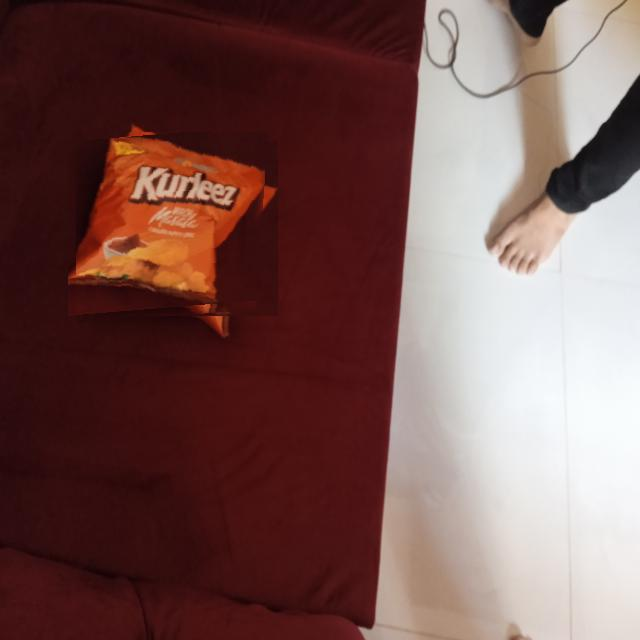Plastic: (76, 132, 269, 325)
